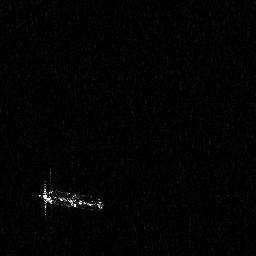ship: (35, 176, 105, 216)
